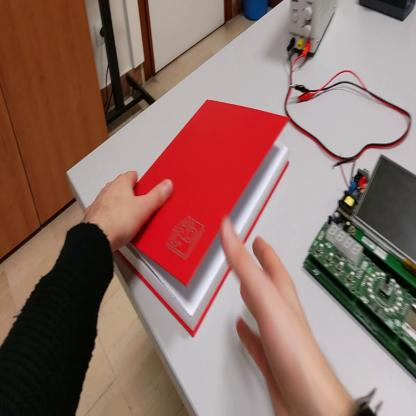hand: (220, 225, 338, 415), (82, 168, 172, 253)
low voltage board: (302, 153, 416, 379)
pliers: (354, 389, 380, 414)
power supply: (288, 2, 337, 52)
register: (115, 100, 288, 339)
socket: (358, 2, 416, 24)
